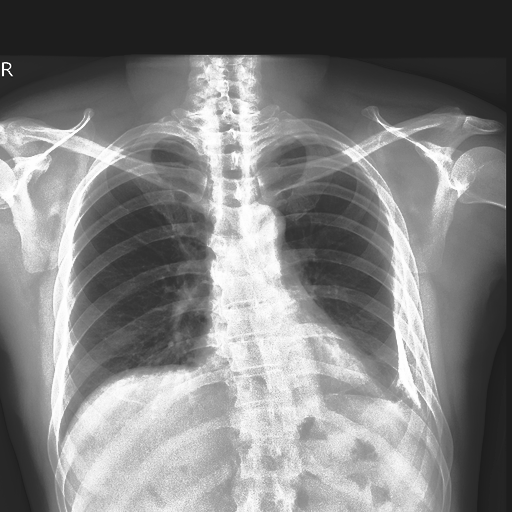Calcification: (387, 260, 426, 422), (271, 134, 322, 145)
Consolidation: (244, 206, 287, 239)
Lung Opacity: (392, 284, 434, 418)
